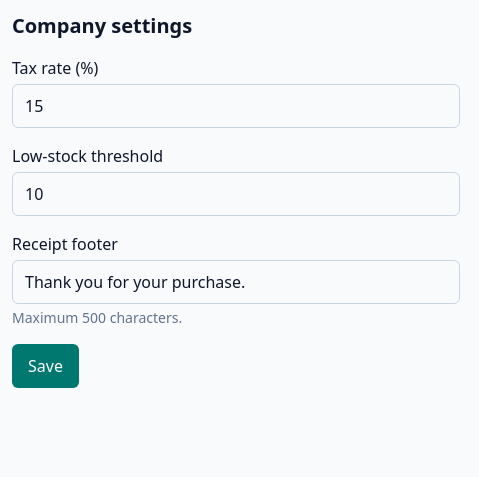
Test case: SettingsPage › saves changed fields only in English
Expected: the heading "Company settings" is shown, x1=12 y1=12 x2=192 y2=39
// Change only low stock threshold
Replace the text in the number field labelled "Low-stock threshold" with "50": (236, 194) x1=12 y1=172 x2=460 y2=216
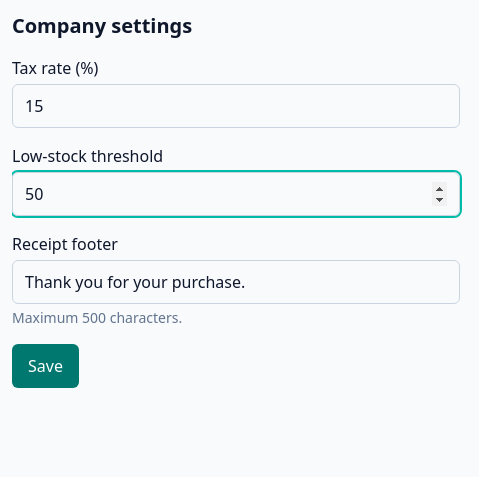
Click the button "Save": (45, 366) x1=12 y1=344 x2=79 y2=388
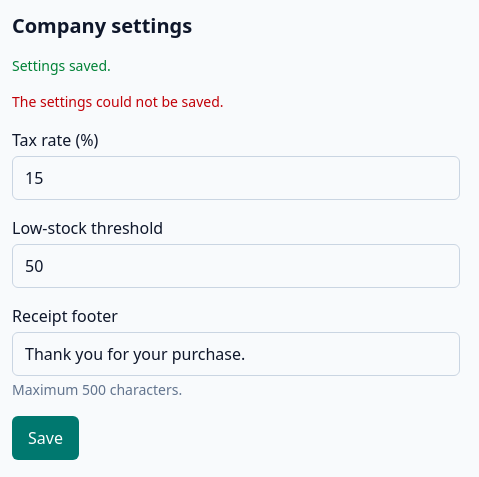
Expected: the message "Settings saved." is shown, x1=12 y1=56 x2=111 y2=75
